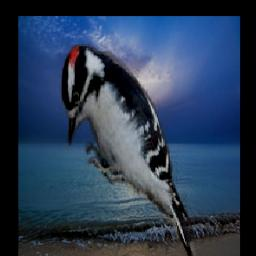Woodpecker: (59, 40, 198, 256)
